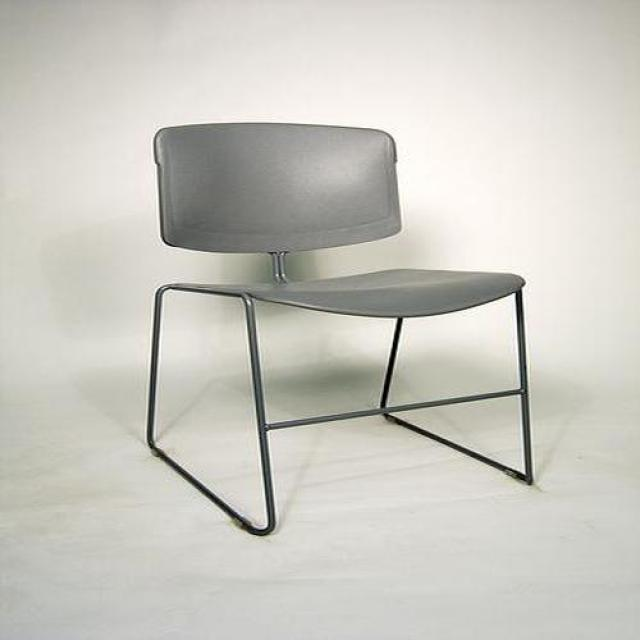chair: (146, 123, 534, 539)
